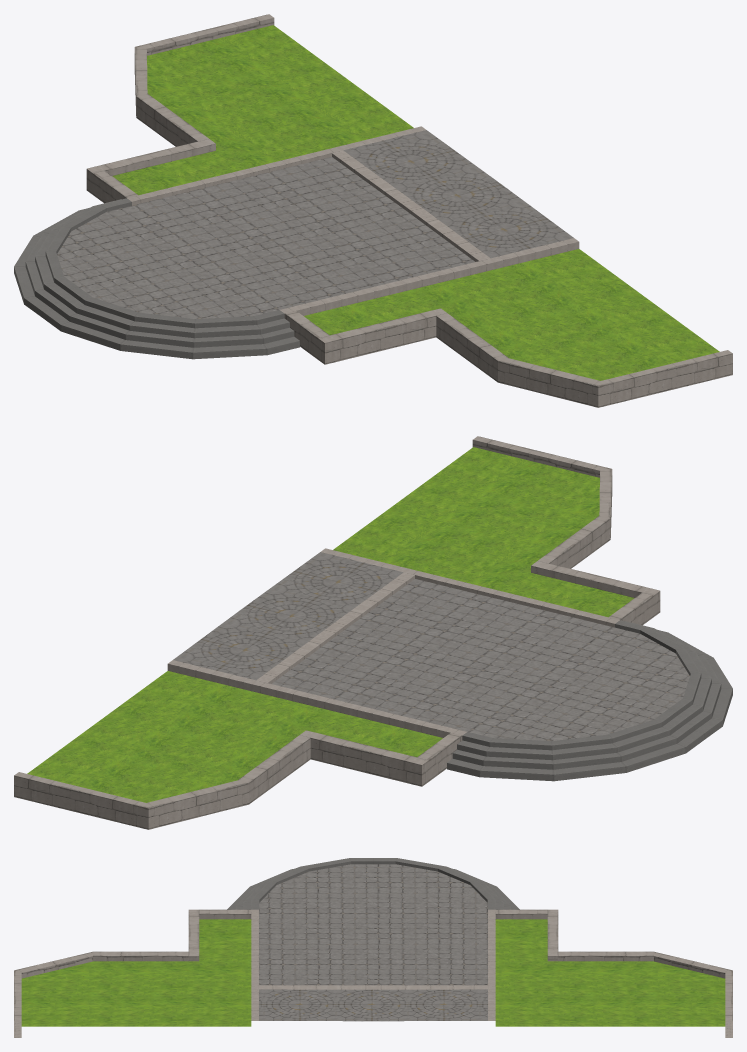
Rendered from Plaza_A.fbx.
The picture shows the model from 3 angles, top to bottom: view 1: azimuth 30°, elevation 25°; view 2: azimuth 150°, elevation 25°; view 3: azimuth 270°, elevation 25°; orthographic projection. The views are drawn at different scales.
Parts seen in each view (by area): view 1: Plaza_A; view 2: Plaza_A; view 3: Plaza_A.
Part boxes in pixels (x1=…): Plaza_A: x1=14, y1=14, x2=732, y2=407; Plaza_A: x1=14, y1=436, x2=732, y2=829; Plaza_A: x1=14, y1=858, x2=732, y2=1037.
Size of the model in its own units: 1561 by 72.56 by 2735.
5 materials, 5 textured.
